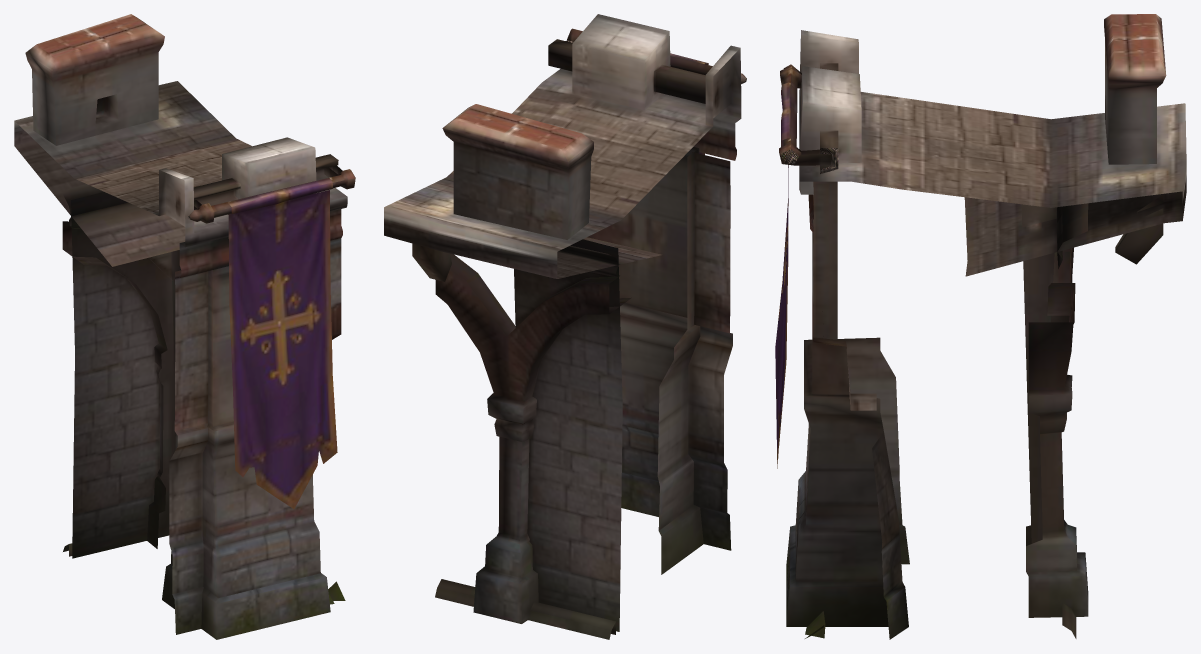
Rendered from WallRunRight_11.fbx.
The picture shows the model from 3 angles, left to right: view 1: azimuth 30°, elevation 25°; view 2: azimuth 150°, elevation 25°; view 3: azimuth 270°, elevation 25°; orthographic projection. The views are drawn at different scales.
Parts seen in each view (by area): view 1: Imported wall section.072; view 2: Imported wall section.072; view 3: Imported wall section.072.
Part boxes in pixels (bbox=[...]): Imported wall section.072: bbox=[14, 14, 355, 639]; Imported wall section.072: bbox=[384, 14, 746, 639]; Imported wall section.072: bbox=[775, 14, 1186, 639].
Bounding box in the file's own units: 200 × 573 × 389.
Materials: 1 (1 with a texture image).
